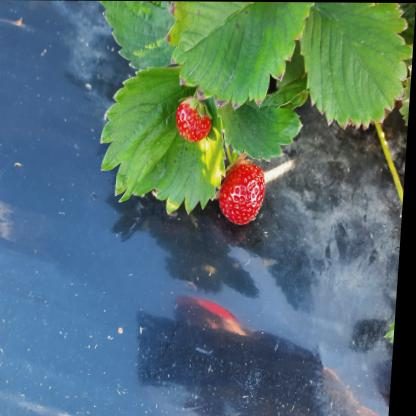ripe: (221, 162, 271, 225), (168, 101, 215, 142)
